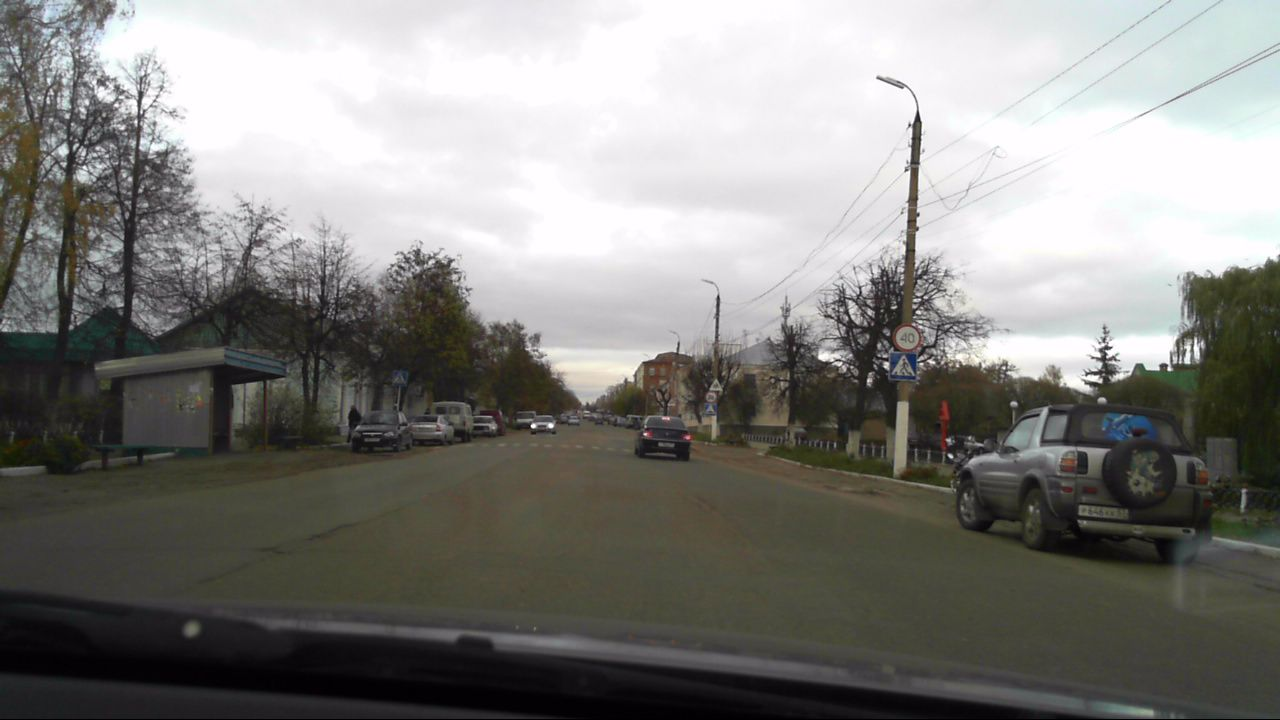speed_warning_40: (892, 324, 921, 350)
